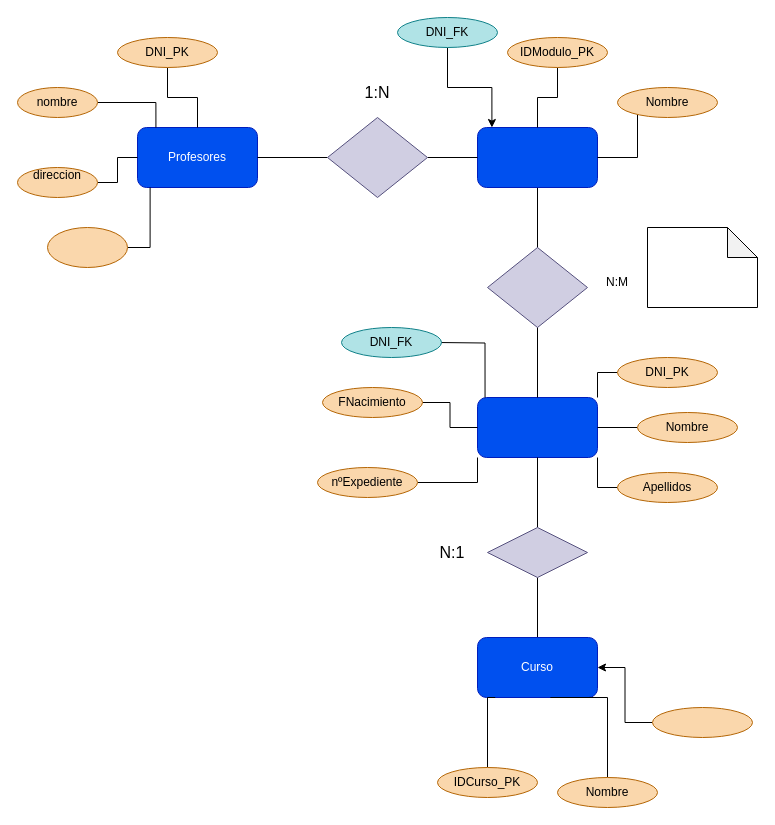
The diagram is 775 pixels wide and 825 high, and some of its shapes have lost their labels. Here are the shapes that lost their labels. From the top down, the centre of each, then its label:
At (x=377, y=157): "Imparte".
At (x=537, y=157): "Modulos".
At (x=87, y=247): "telefono".
At (x=702, y=267): "Se crea una tabla dinamica".
At (x=537, y=287): "Matriculado".
At (x=537, y=427): "Alumno".
At (x=537, y=552): "Pertenece".
At (x=702, y=722): "Delegado".
